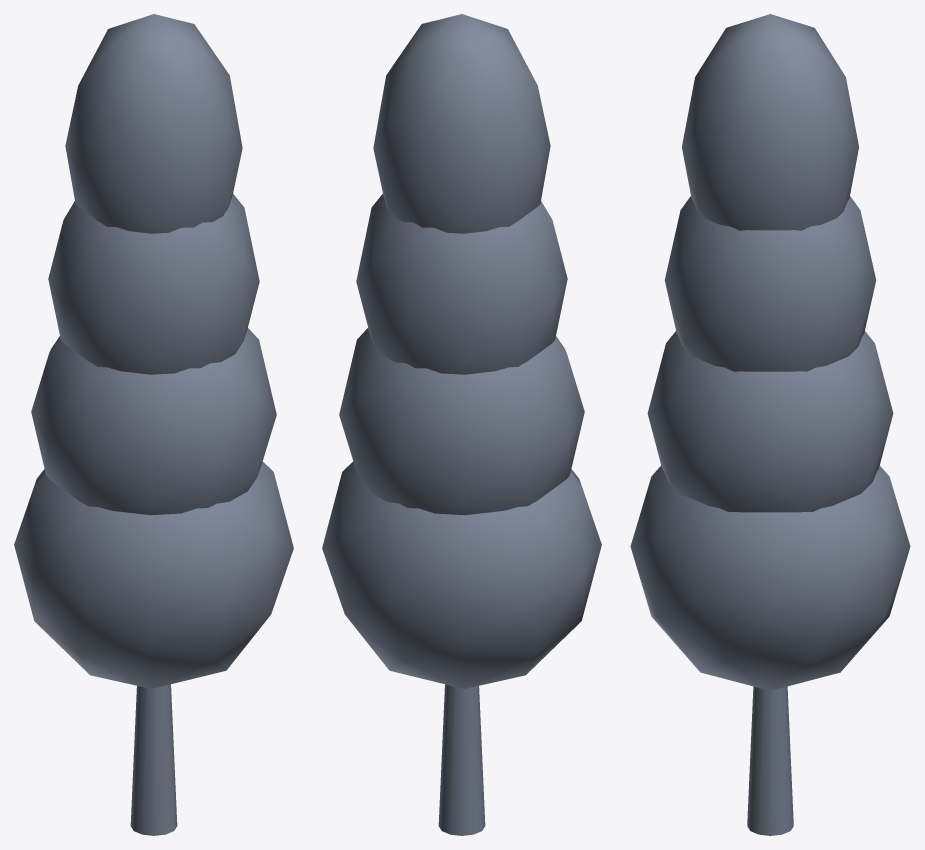
Rendered from garden-tree-columnar-lite.glb.
3 views of the same model, side by side, from view 1: azimuth 30°, elevation 25°; view 2: azimuth 150°, elevation 25°; view 3: azimuth 270°, elevation 25° (orthographic).
Visible parts, largest first — view 1: garden-tree-columnar; view 2: garden-tree-columnar; view 3: garden-tree-columnar.
Part boxes in pixels (x1,y1,x2,y2): garden-tree-columnar: (14,14,293,835); garden-tree-columnar: (322,14,601,835); garden-tree-columnar: (630,14,910,835).
Bounding box in the file's own units: 1 × 3.2 × 1.
